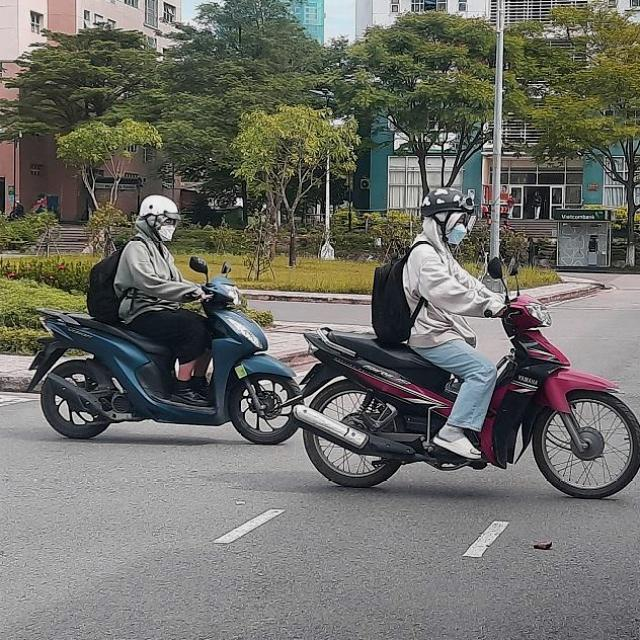Helmet: (418, 183, 474, 256), (135, 194, 183, 248)
